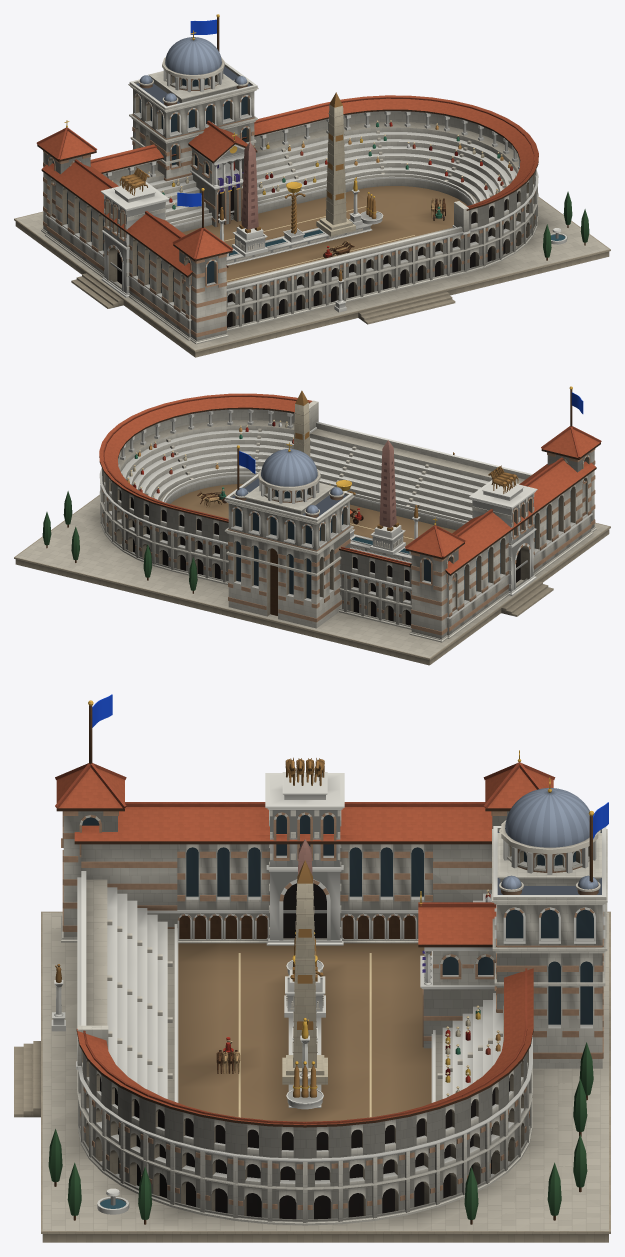
Rendered from lm_hipodrom.glb.
3 renders of one model, top to bottom at view 1: azimuth 30°, elevation 25°; view 2: azimuth 150°, elevation 25°; view 3: azimuth 270°, elevation 25°, orthographic. The views are drawn at different scales.
Parts seen in each view (by area): view 1: lm_hipodrom; view 2: lm_hipodrom; view 3: lm_hipodrom.
Part boxes in pixels (x1,y1,x2,y2): lm_hipodrom: (14, 14, 610, 357); lm_hipodrom: (14, 386, 610, 665); lm_hipodrom: (14, 694, 610, 1242).
Size of the model in its own units: 2.45 by 0.9261 by 1.87.
1 material, 1 textured.
